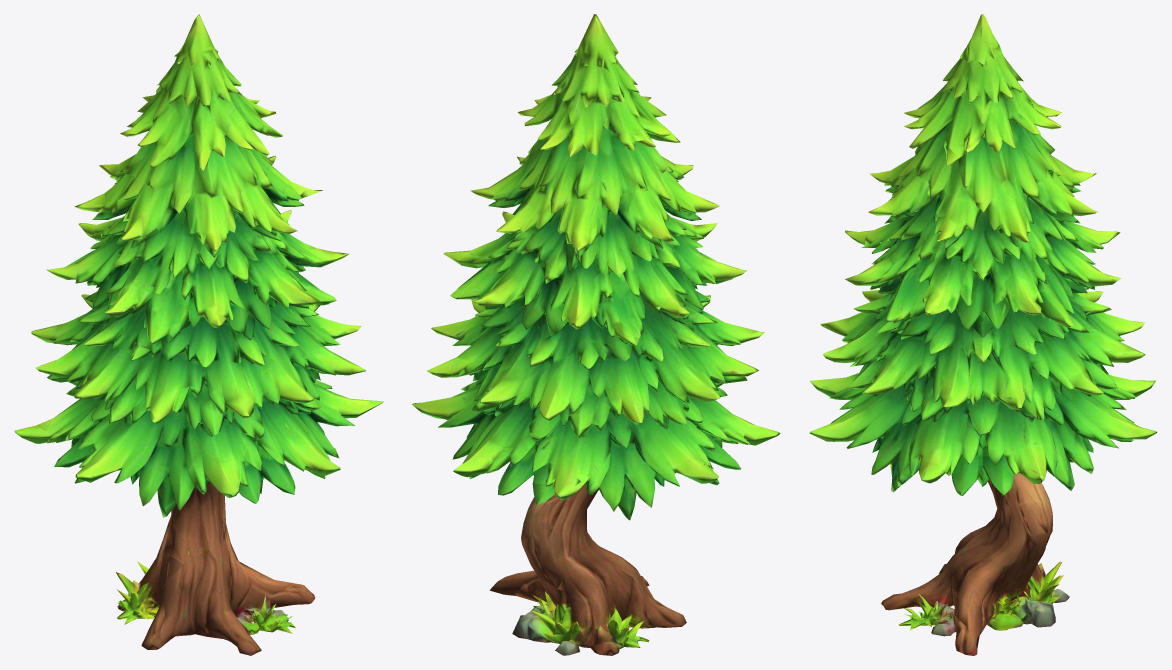
File: pine.glb
The picture shows the model from 3 angles, left to right: view 1: azimuth 30°, elevation 25°; view 2: azimuth 150°, elevation 25°; view 3: azimuth 270°, elevation 25°; orthographic projection. The views are drawn at different scales.
Bounding box in the file's own units: 1.01 × 1.89 × 1.01.
Materials: 1 (1 with a texture image).
